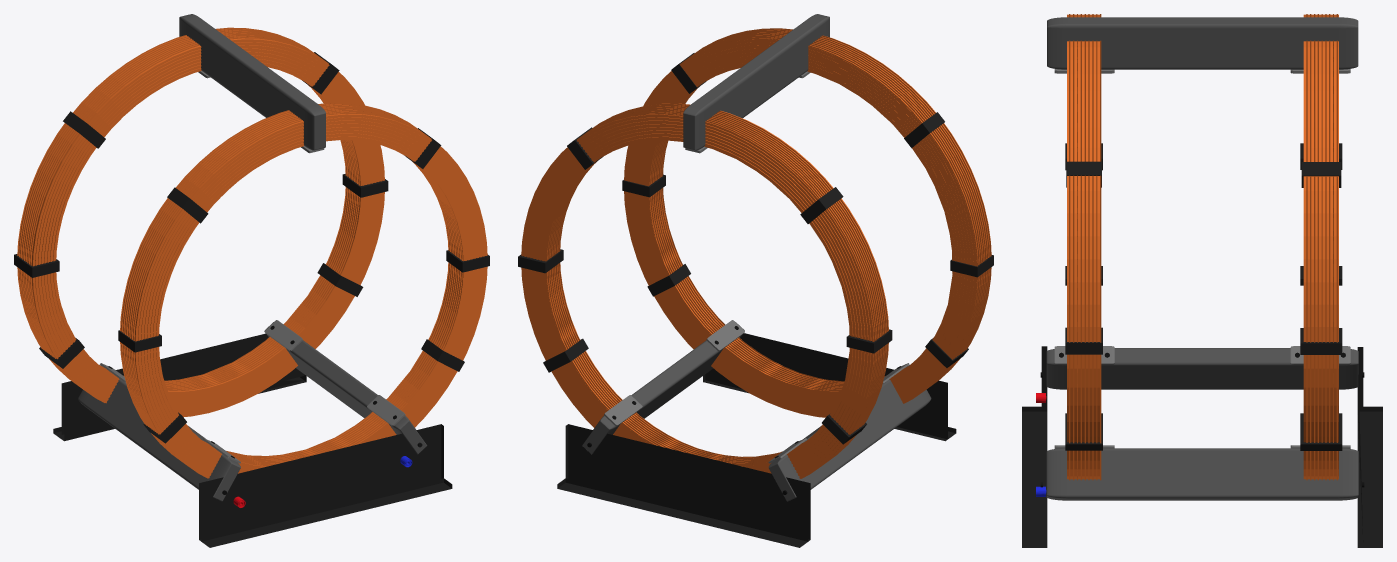
3 views of the same model, side by side, from view 1: azimuth 30°, elevation 25°; view 2: azimuth 150°, elevation 25°; view 3: azimuth 270°, elevation 25° (orthographic). The views are drawn at different scales.
Visible parts, largest first — view 1: rings; view 2: rings; view 3: rings.
Boxes of the visible parts, <box> form: rings: <box>14,14,489,547</box>; rings: <box>518,14,993,547</box>; rings: <box>1022,14,1382,547</box>.
Size of the model in its own units: 353 by 378 by 269.
